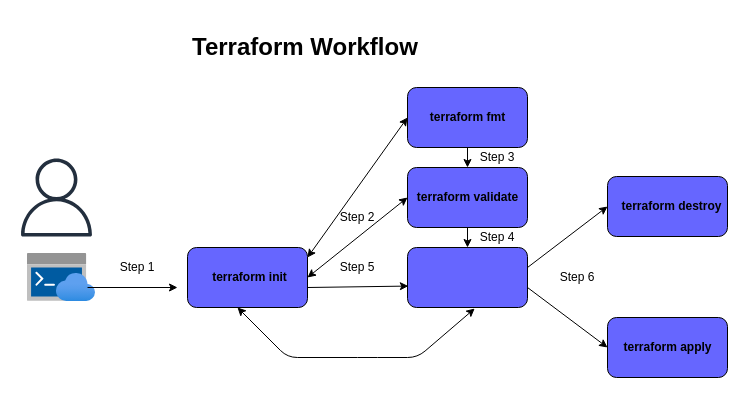
The diagram is 745 pixels wide and 395 high, and some of its shapes have lost their labels. Each missing label, with the centre of its shape:
terraform plan: point (467, 277)
User: point (56, 197)
